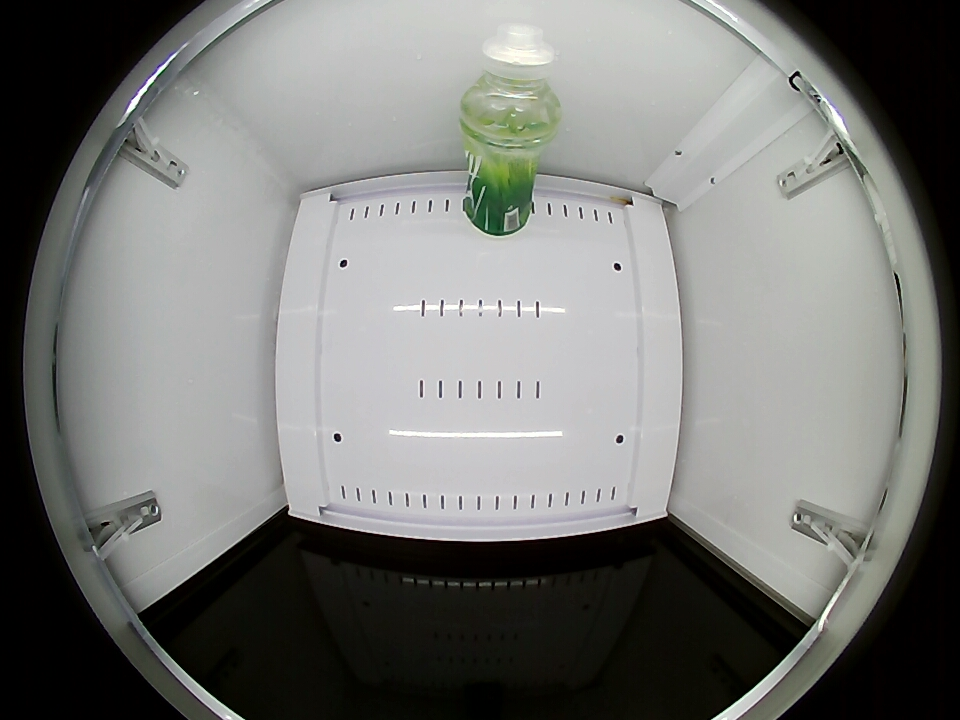jianjiao: (460, 25, 560, 143)
